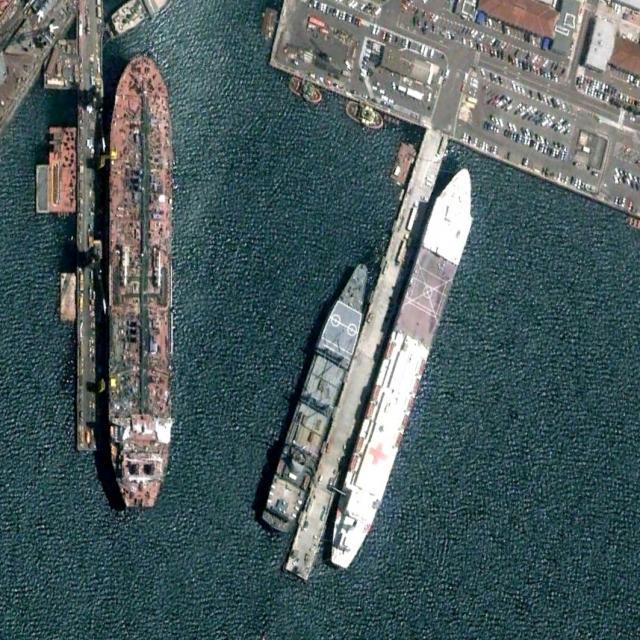Auxiliary Ships: (320, 155, 486, 576)
Hovercraft: (343, 97, 387, 131), (287, 72, 324, 107)
Oil Tanker: (107, 54, 172, 508)
Other Ship: (259, 254, 377, 538)
